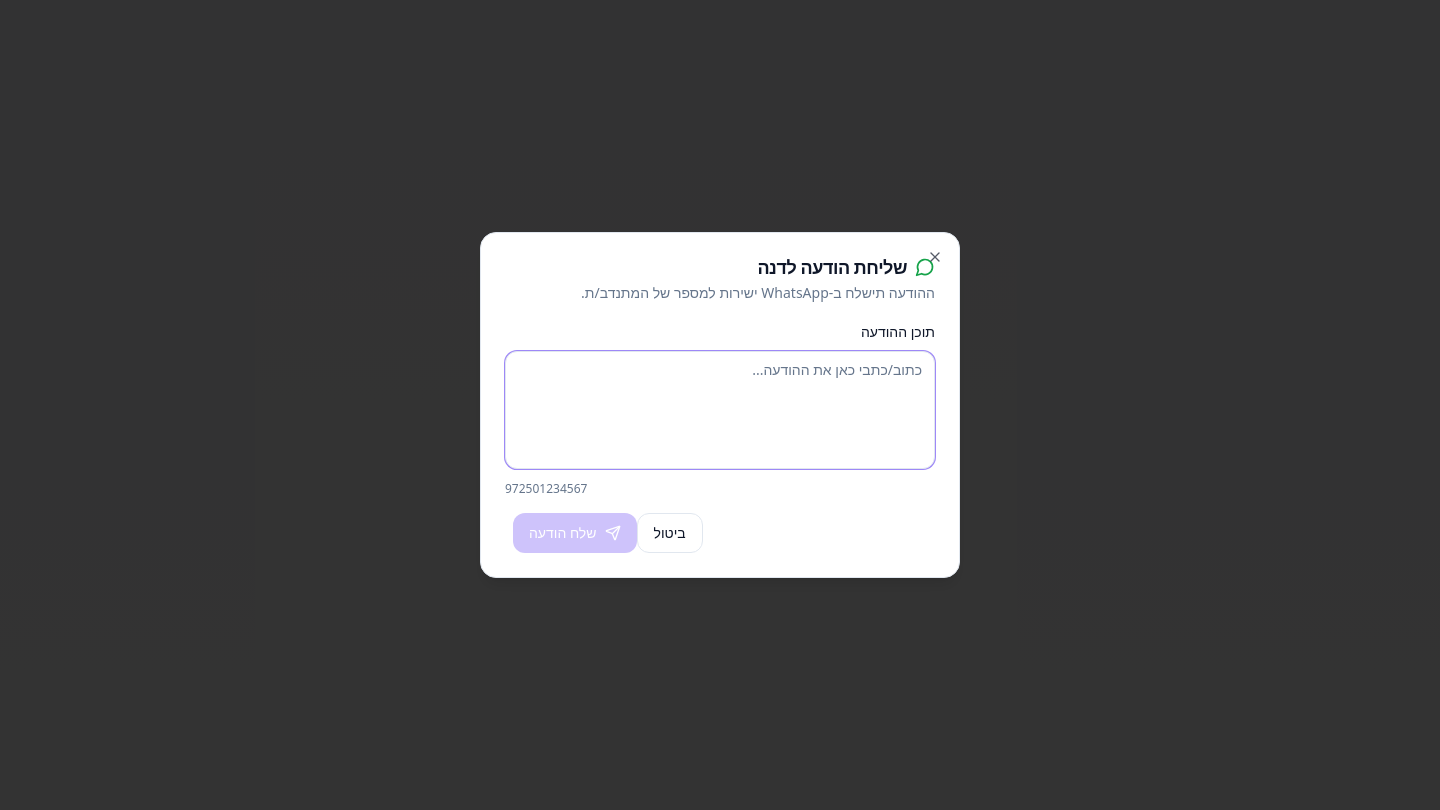
Test case: SendMessageDialog › disables send until a message is typed, then sends to the correct chatId
Later steps or results of the test are not shown.
Check: the button "שלח הודעה" is disabled, box [513, 513, 636, 553]
Type "שלום!" into the text box labelled "תוכן ההודעה".
click(720, 410); type("שלום!")  # box [505, 351, 935, 469]
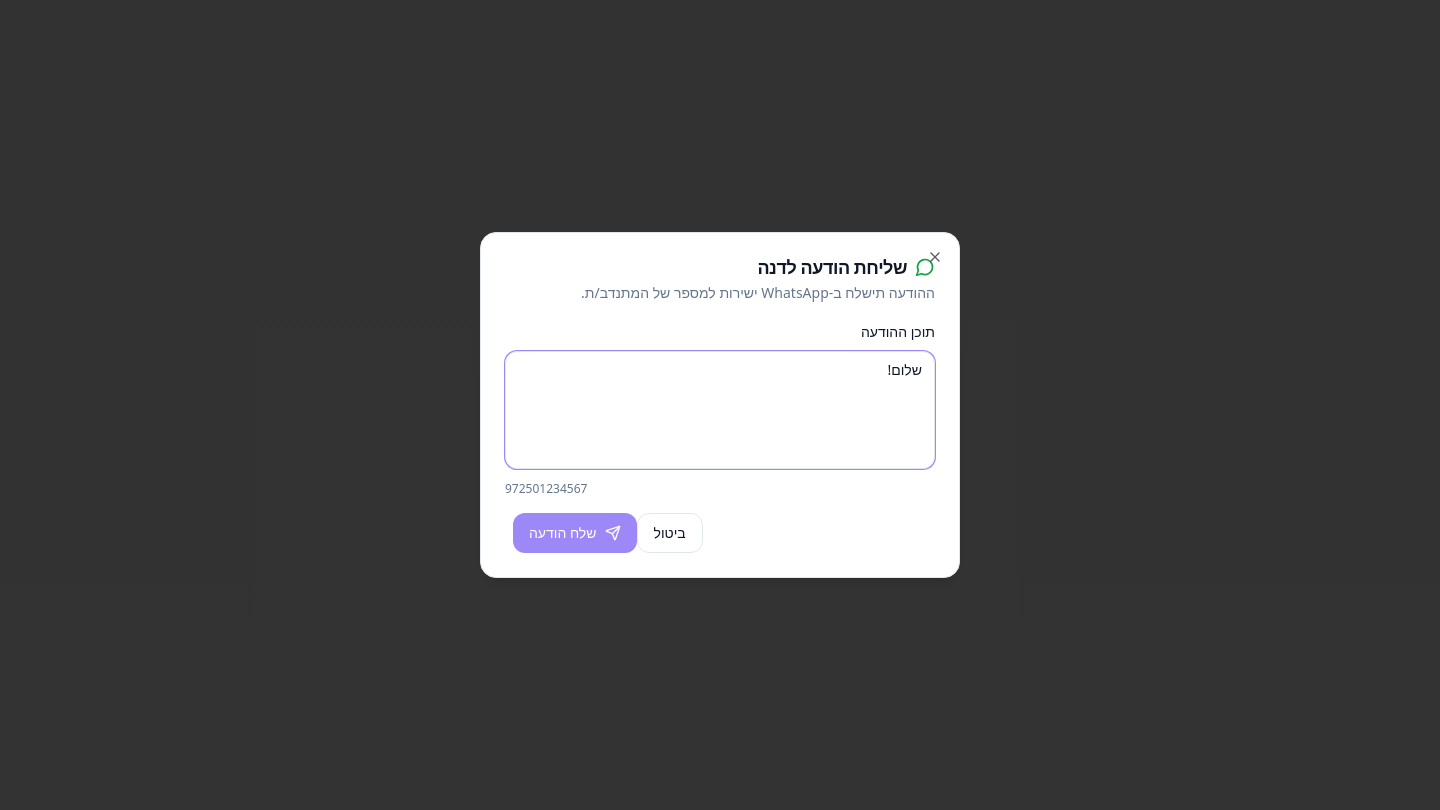
Check: the button "שלח הודעה" is enabled, box [513, 513, 636, 553]
